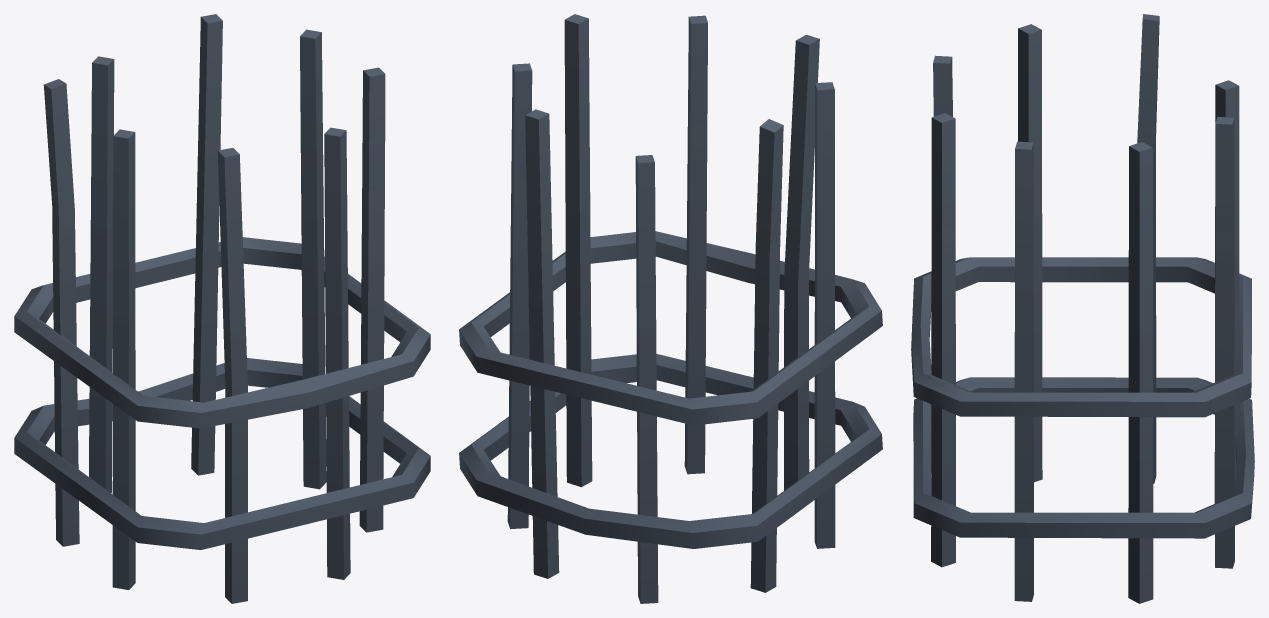
Rendered from RreinforcingBars_C_1__.fbx.
3 renders of one model, left to right at view 1: azimuth 30°, elevation 25°; view 2: azimuth 150°, elevation 25°; view 3: azimuth 270°, elevation 25°, orthographic.
Visible parts, largest first — view 1: RreinforcingBars_C_1; view 2: RreinforcingBars_C_1; view 3: RreinforcingBars_C_1.
Part boxes in pixels (x1,y1,x2,y2): RreinforcingBars_C_1: (14,14,430,603); RreinforcingBars_C_1: (459,14,882,603); RreinforcingBars_C_1: (911,14,1254,603).
Bounding box in the file's own units: 42.53 × 63.64 × 43.18.
